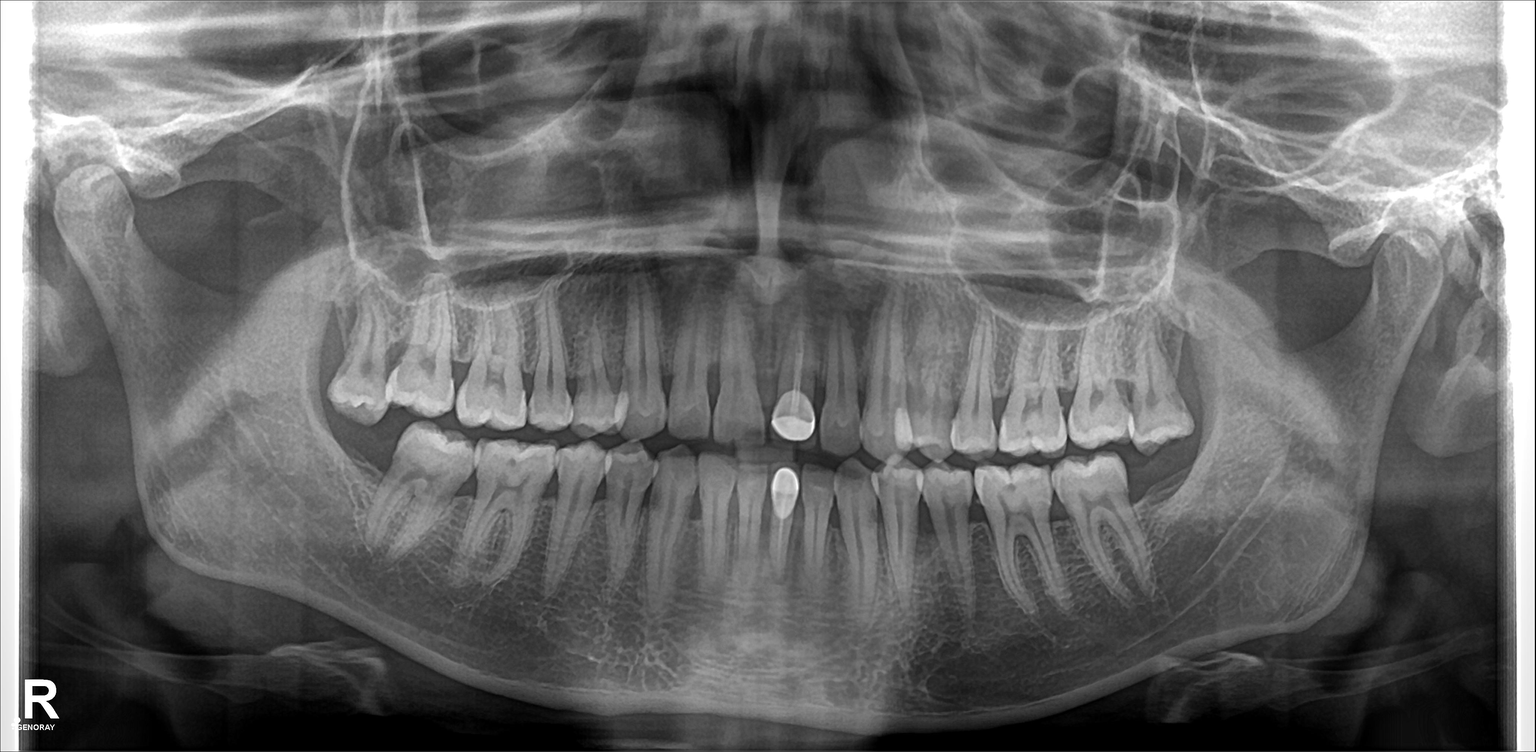Endodontically Treated Tooth: (769, 318, 818, 439), (767, 463, 797, 585)
Missing Tooth: (339, 426, 398, 495), (1125, 462, 1192, 508)
